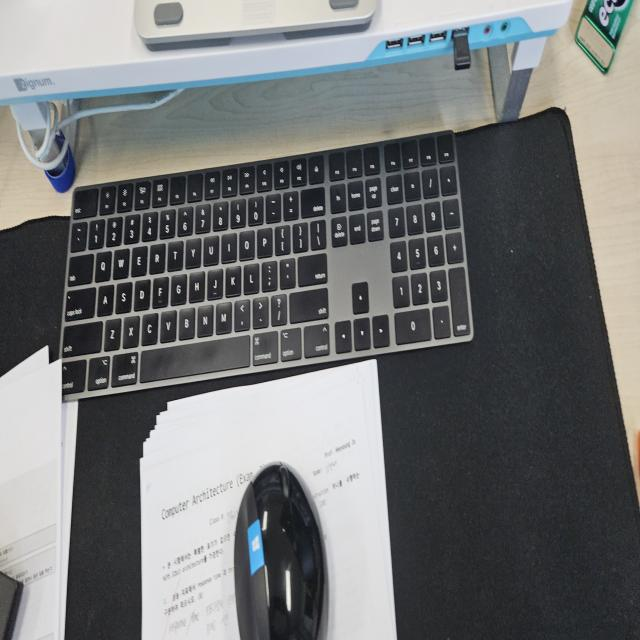Keyboard: (57, 127, 475, 400)
Mouse: (232, 457, 327, 637)
